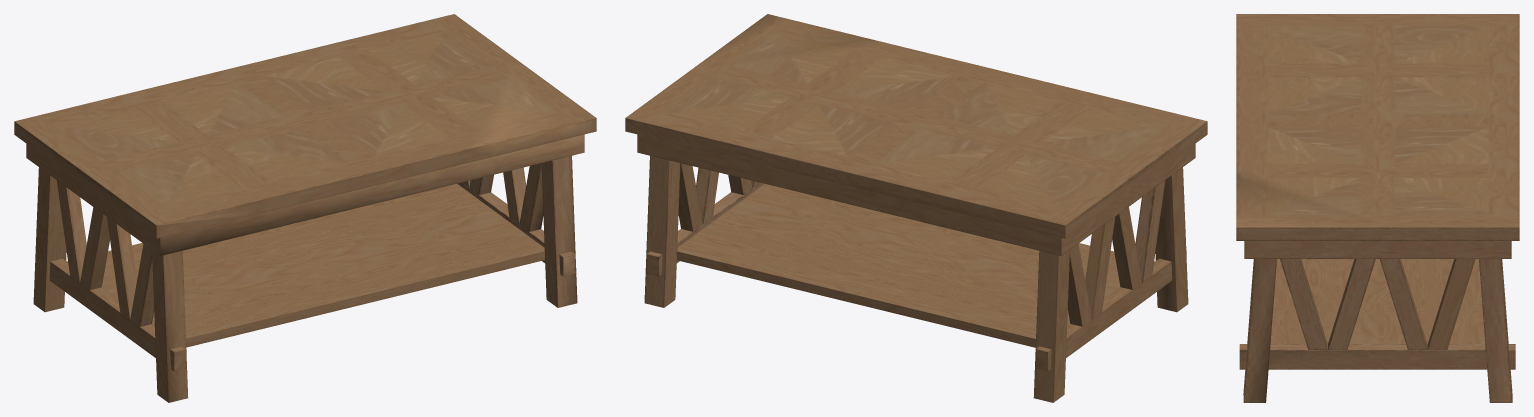
The model's file is coffee_table_abo_B07B8HYSLD.glb.
3 renders of one model, left to right at view 1: azimuth 30°, elevation 25°; view 2: azimuth 150°, elevation 25°; view 3: azimuth 270°, elevation 25°, orthographic.
Parts seen in each view (by area): view 1: RootNode; view 2: RootNode; view 3: RootNode.
Part boxes in pixels (x1,y1,x2,y2): RootNode: (14,14,596,402); RootNode: (625,14,1207,402); RootNode: (1236,14,1519,402).
Size of the model in its own units: 1.27 by 0.5073 by 0.7115.
Materials: 1 (1 with a texture image).
